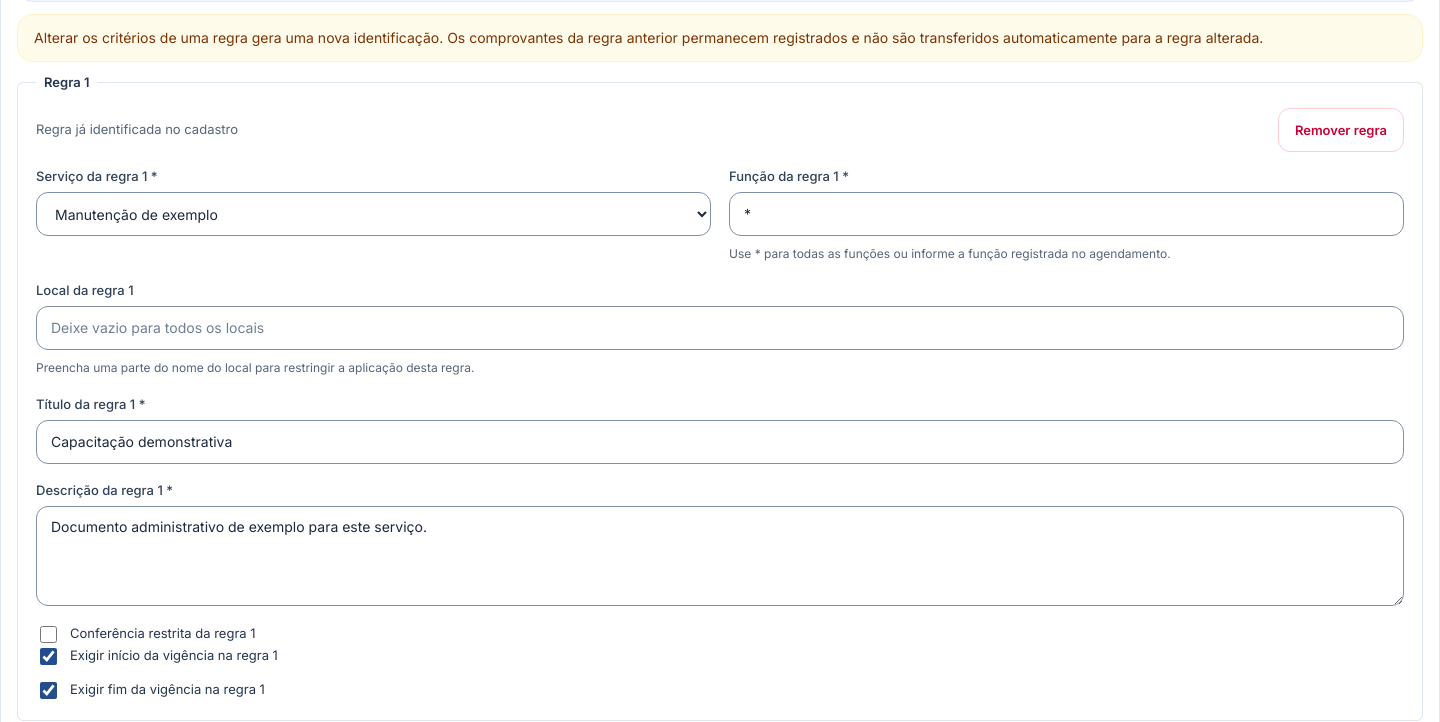
Test case: matriz de requisitos por unidade › salva rascunho com revisão sem publicar e mantém alterações no erro de campo
This screenshot has width=1440, height=722.
(page scrolled)
Replace the text in the field labelled "Título da regra 1 *" with "Exigência editada" at (720, 442), box left=36, top=420, right=1404, bottom=464
(page scrolled)
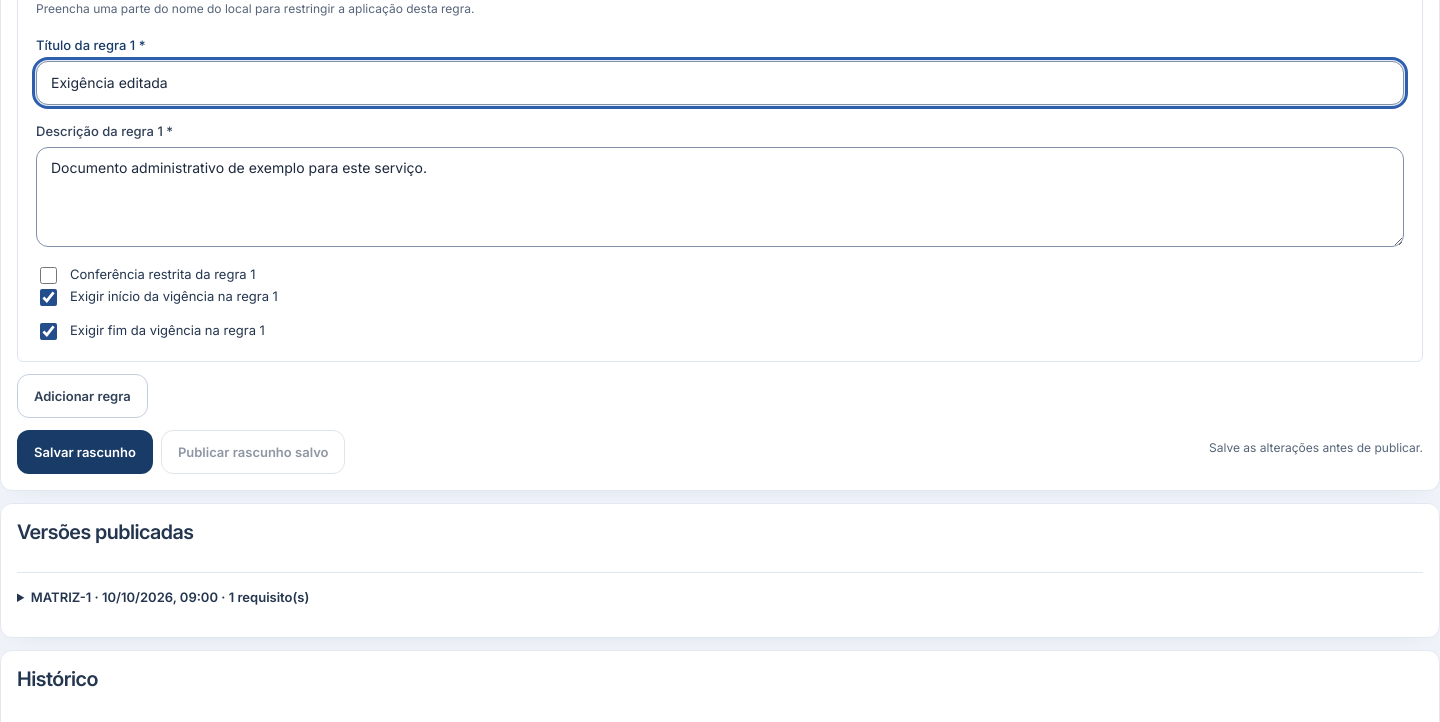
Now the button "Publicar rascunho salvo" is disabled, box left=161, top=430, right=346, bottom=474
Click the button "Salvar rascunho" at (85, 452), box left=17, top=430, right=153, bottom=474
(page scrolled)
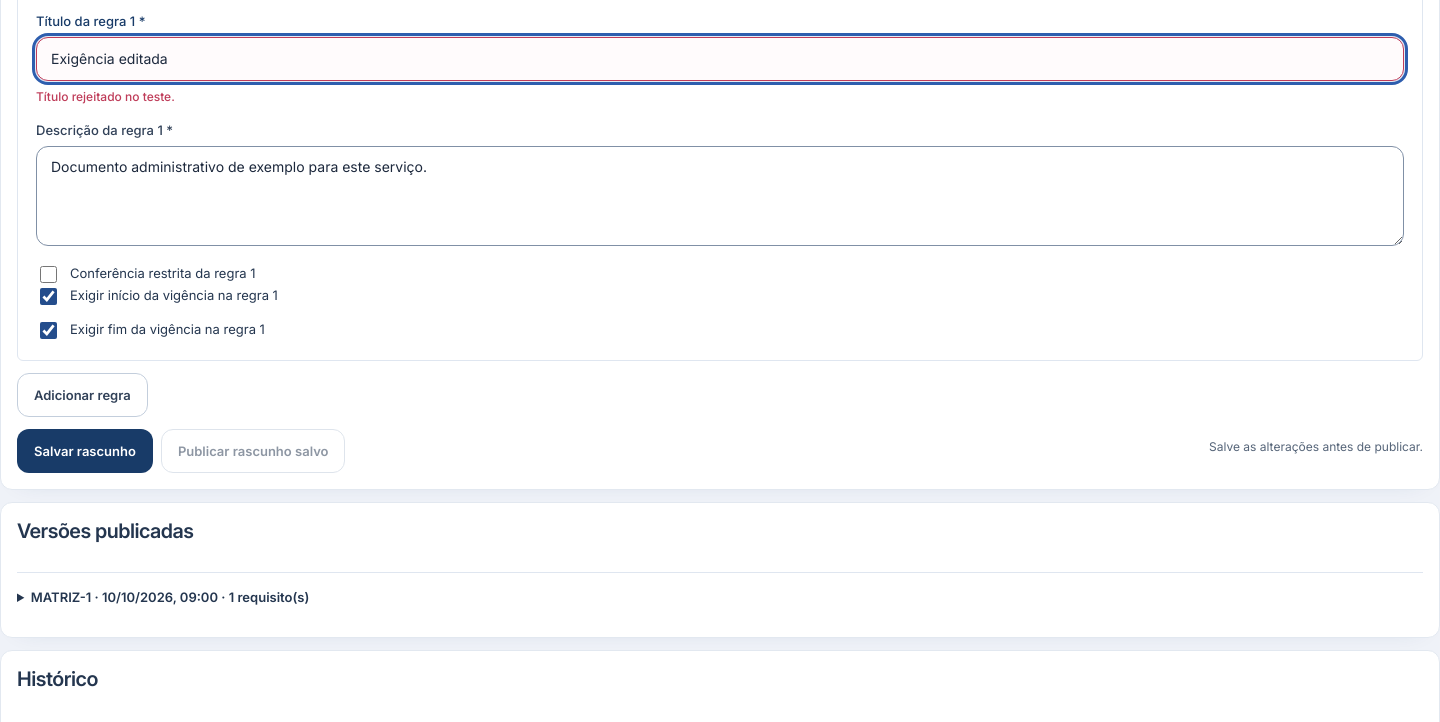
Now the text "Título rejeitado no teste." is shown, box left=36, top=89, right=175, bottom=104
Click the button "Salvar rascunho" at (85, 451), box left=17, top=429, right=153, bottom=473
(page scrolled)
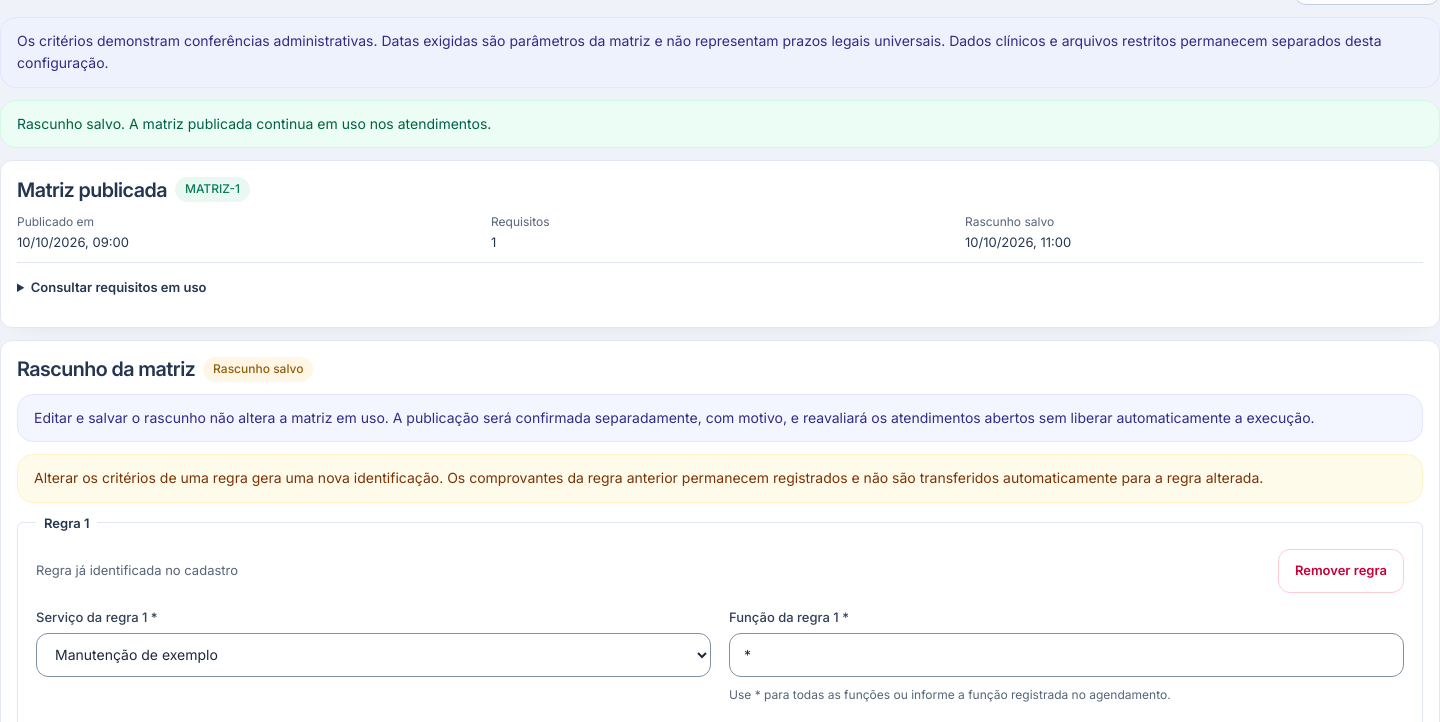
Now the text "Rascunho salvo. A matriz publicada continua em uso nos atendimentos." is shown, box left=0, top=100, right=1439, bottom=148
